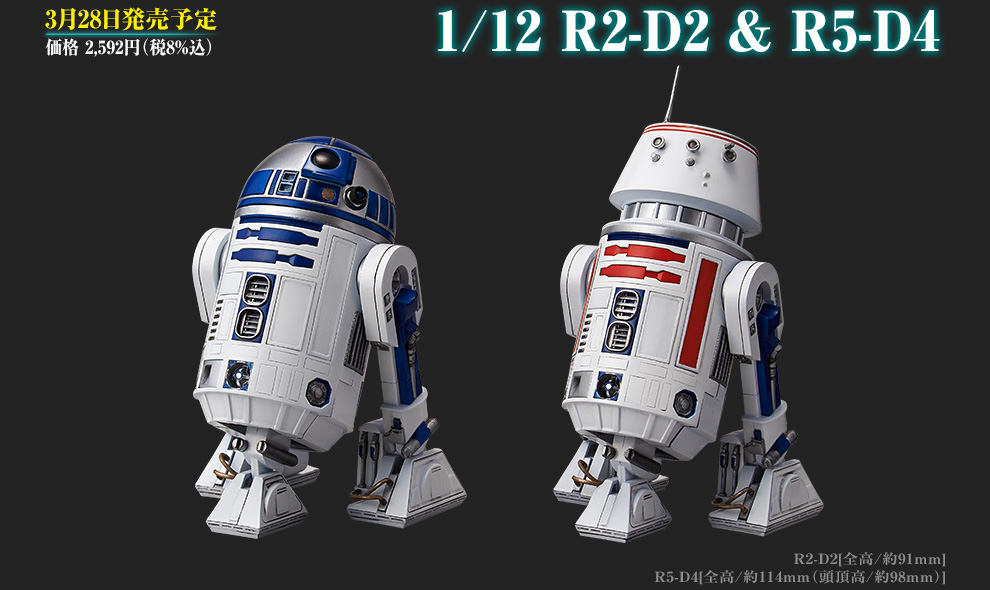r2d2: (191, 135, 468, 539)
